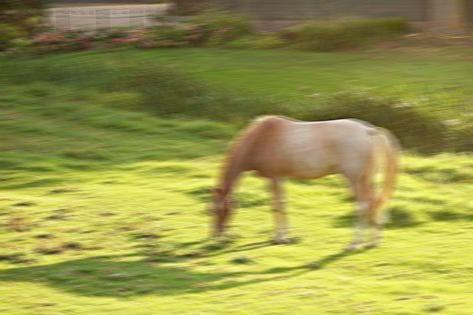horse: (204, 113, 400, 252)
